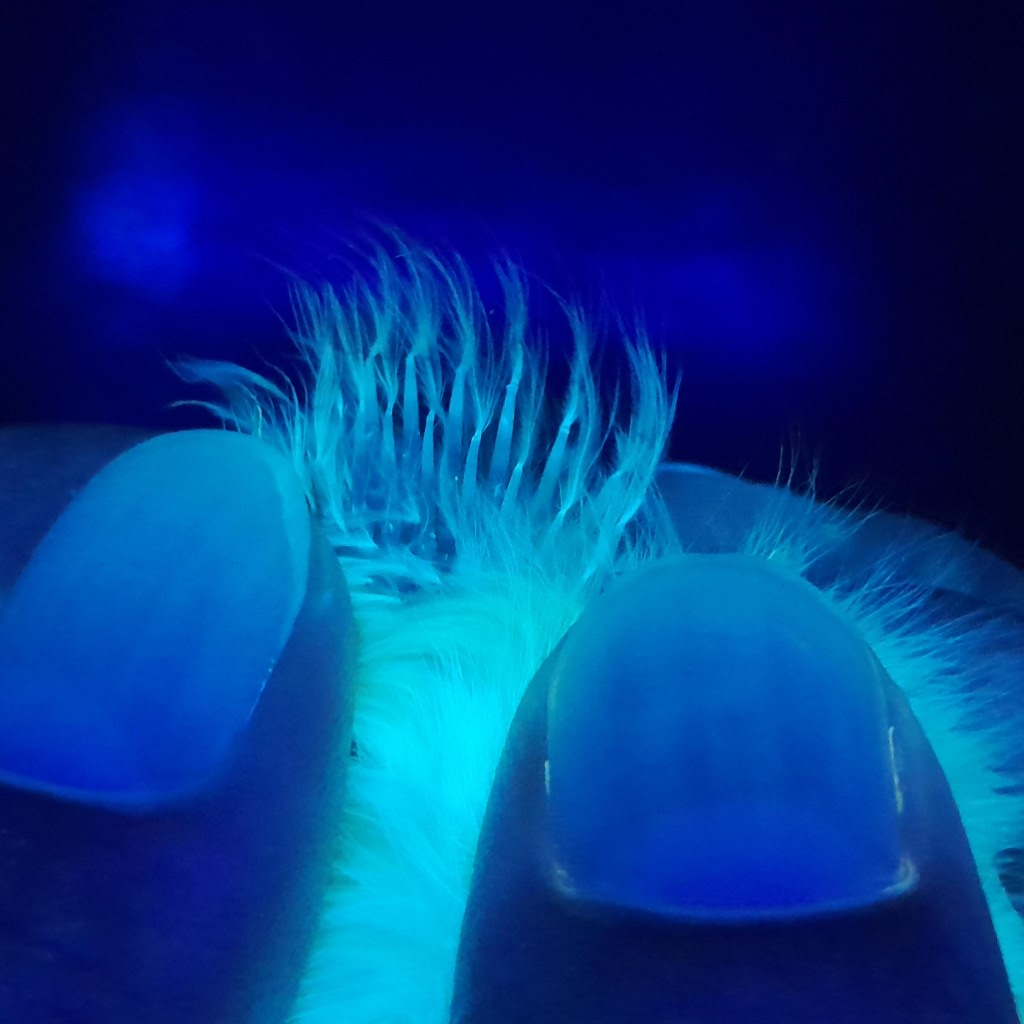female: (337, 332, 655, 648)
